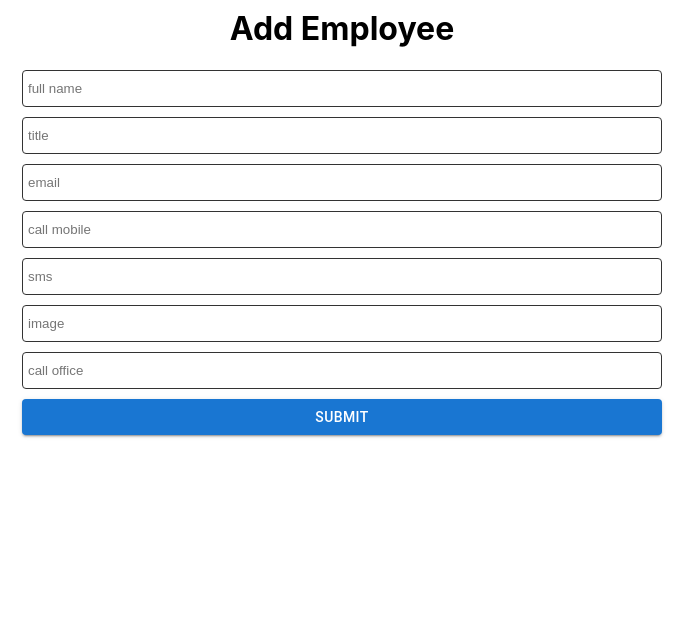
Test: App component › should render the login page
The image size is (685, 624).
Click the button: click(342, 417) [22, 399, 662, 435]
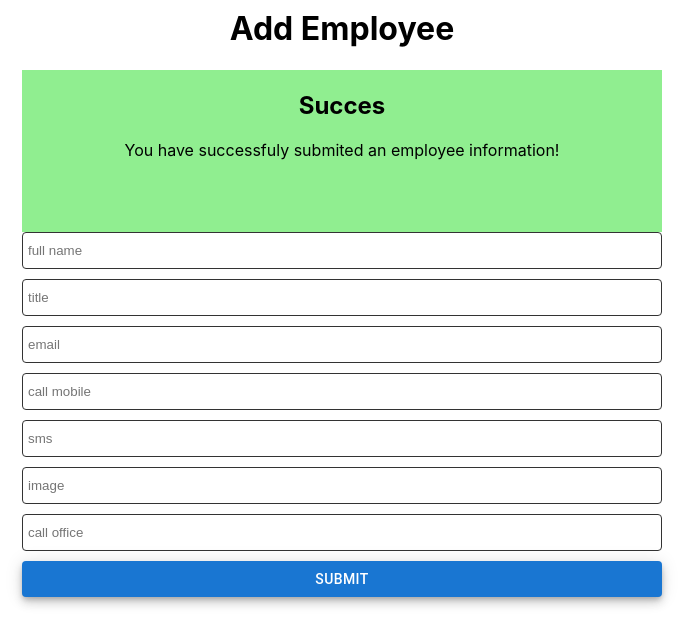
Expected: the heading "Succes" is shown, [299, 91, 385, 120]
